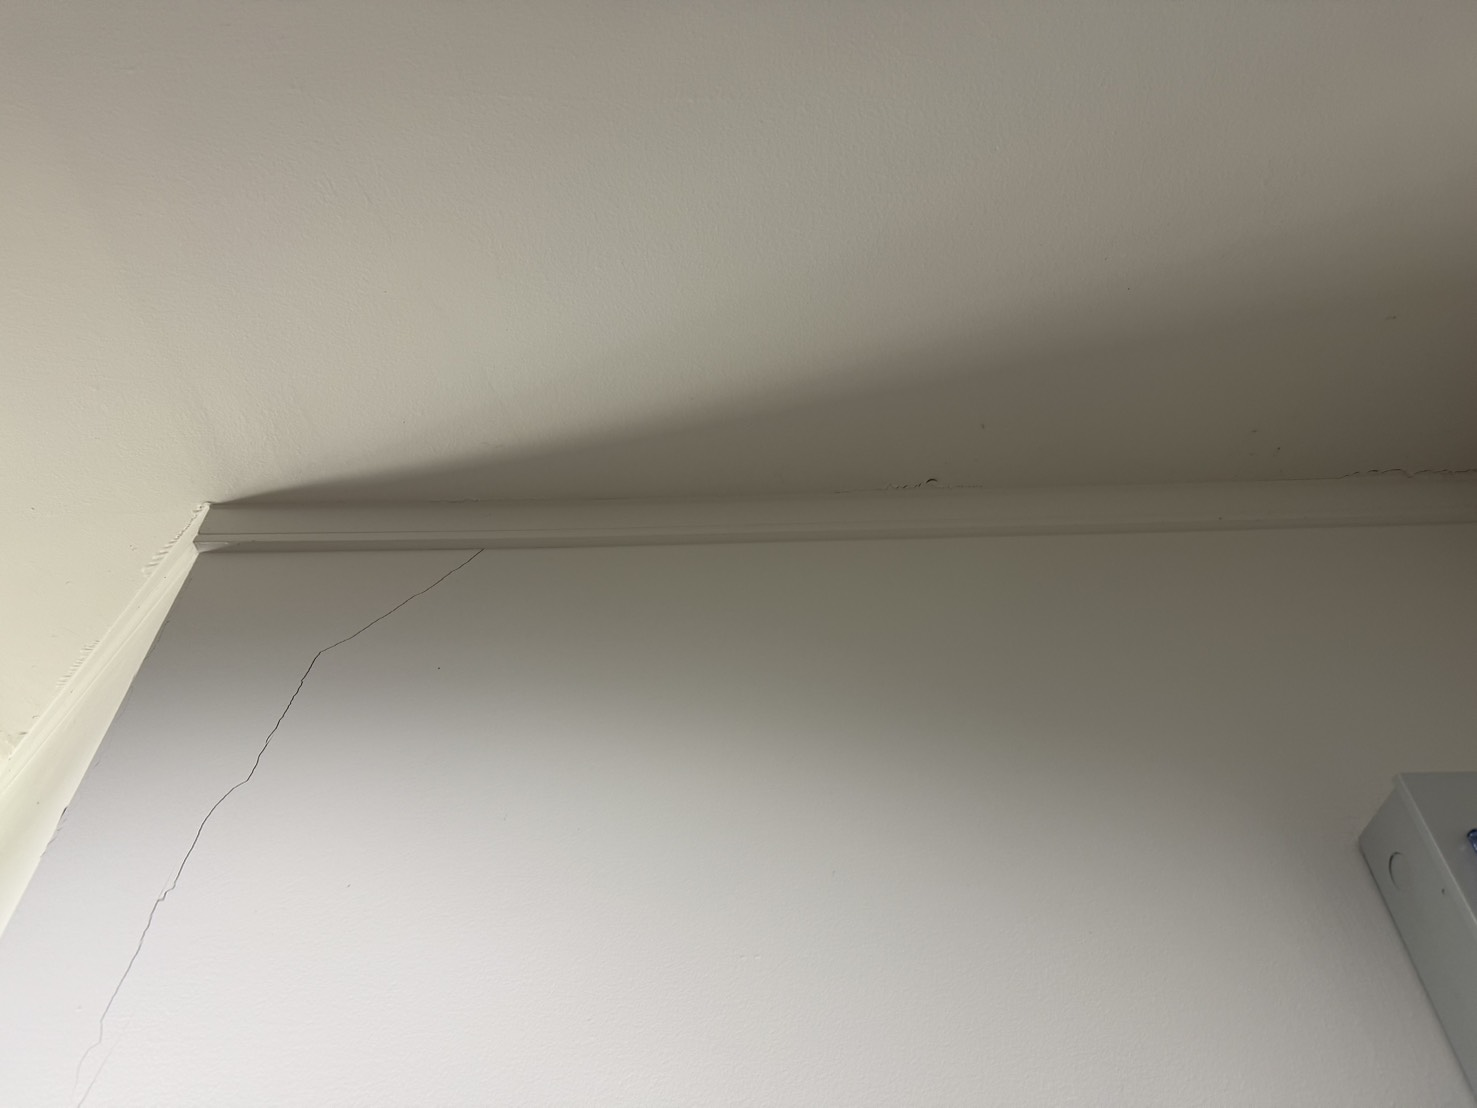Low: (56, 512, 551, 1096)
